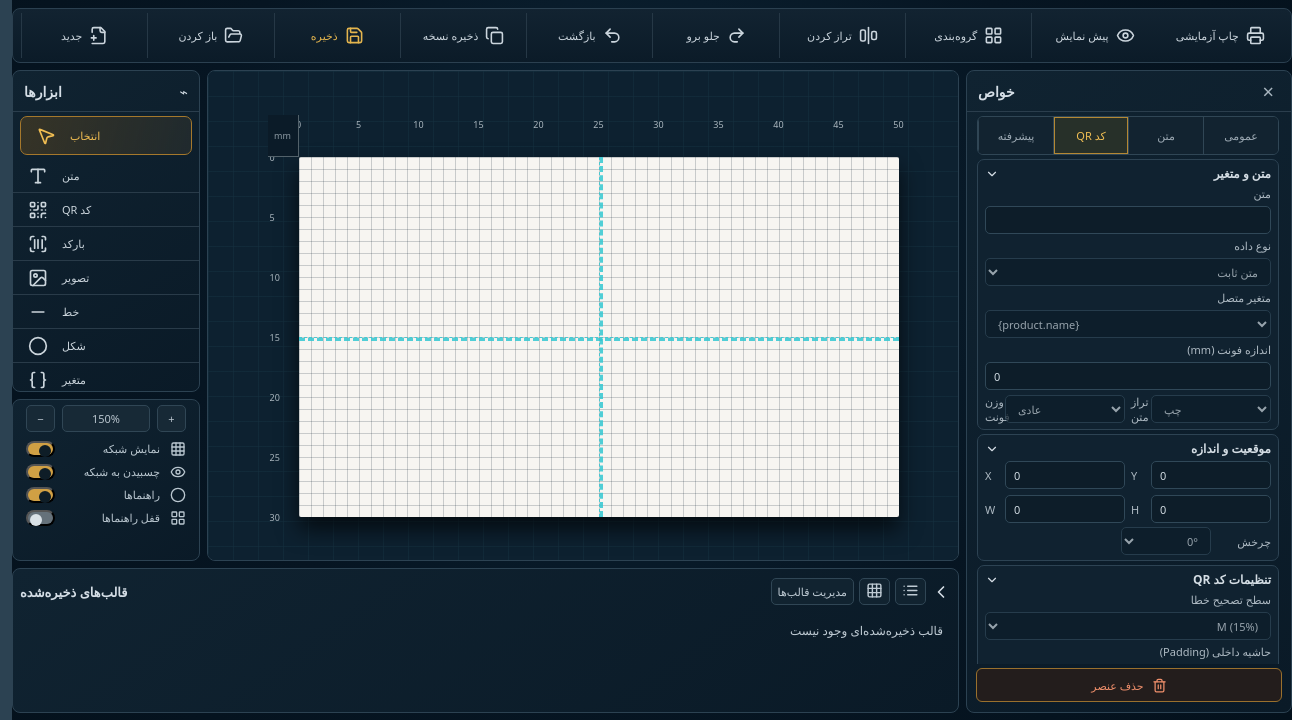
Test case: editable label designer canvas › keeps the canvas and the properties panel in sync in both directions
Click the button "متن" below "ابزارها" at (106, 176), box [13,159,199,193]
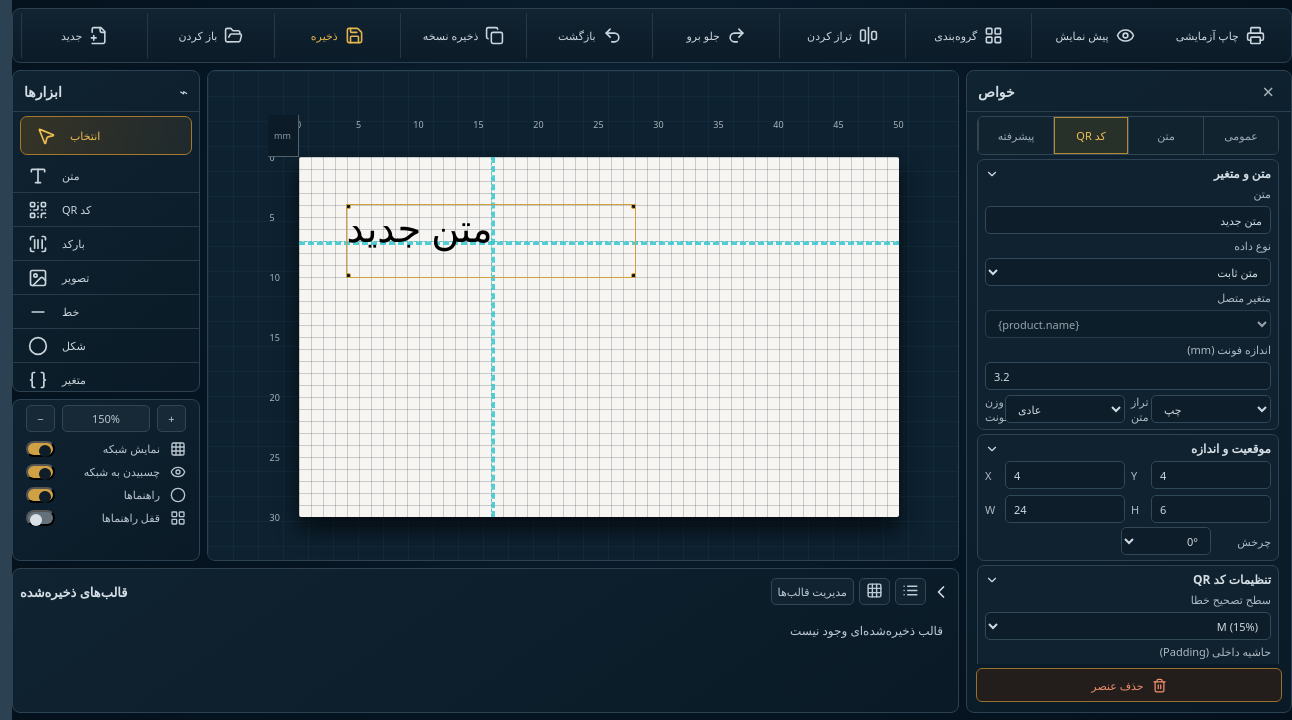
Check: the element with test id "label-element-text-1" is shown, box [346,204,634,276]
Replace the text in the field labelled "X" with "18" at (1065, 475), box [1005,461,1125,489]
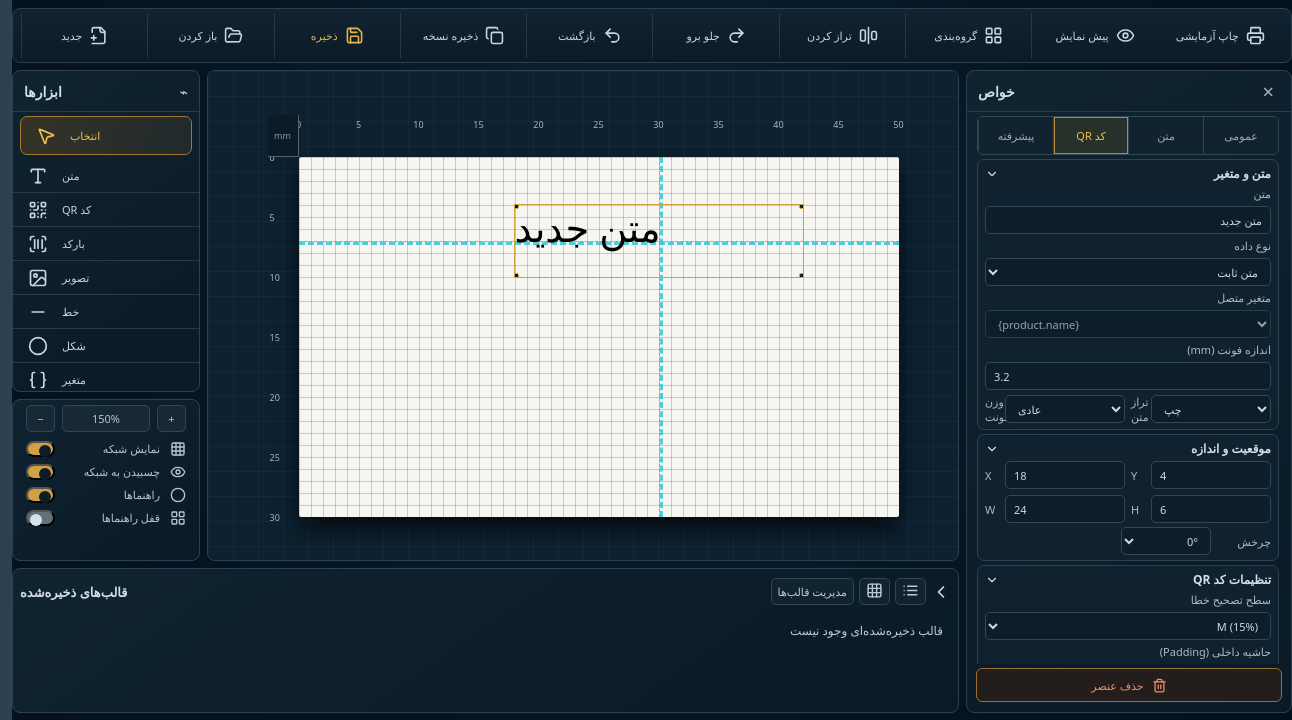
Press the mouse on the element with test id "label-element-text-1" at (658, 240), box [514,204,802,276]
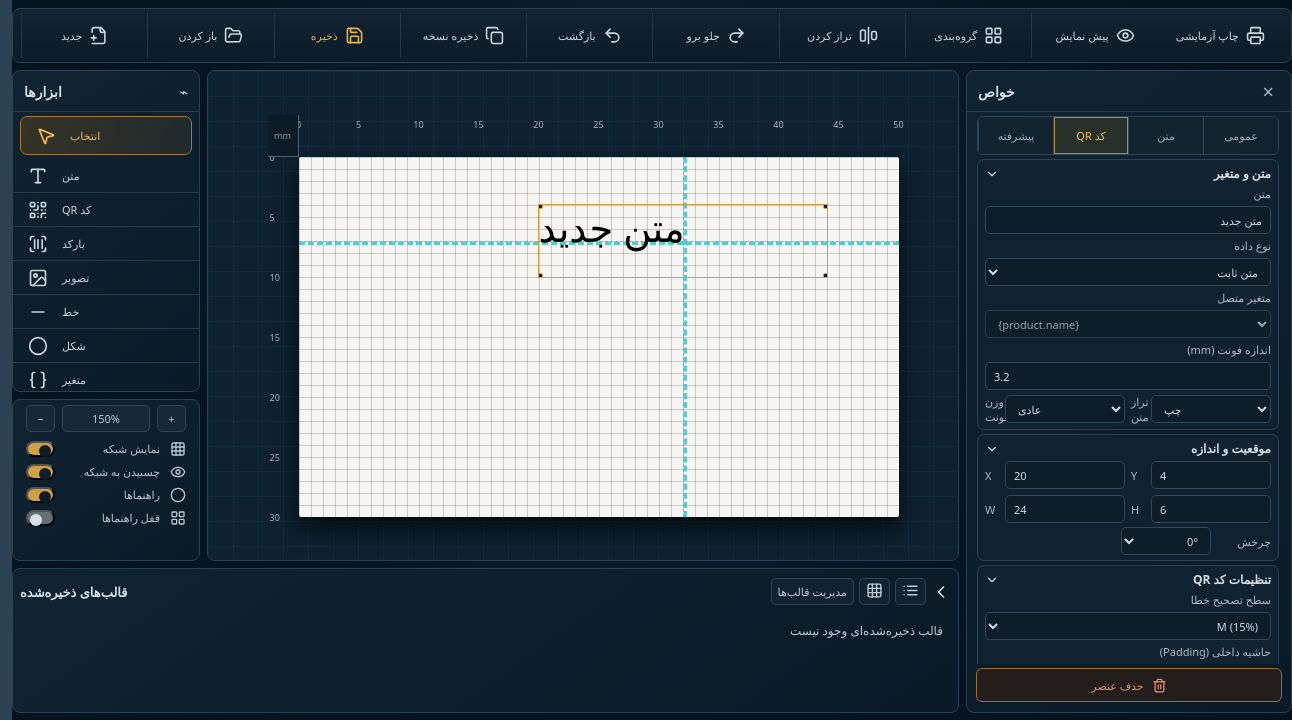
Check: the field labelled "X" holds "20", box [1005,461,1125,489]
